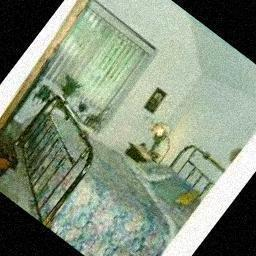Armario: (0, 0, 139, 185)
